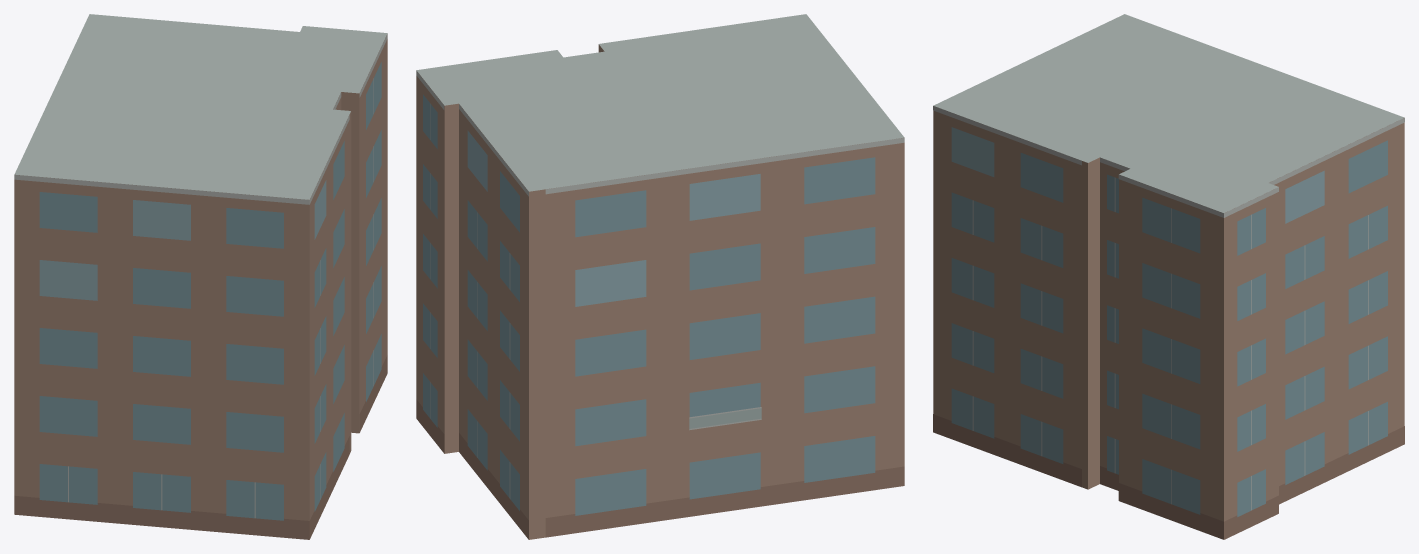
The model's file is survey-upis-33020995.glb.
3 renders of one model, left to right at view 1: azimuth 30°, elevation 25°; view 2: azimuth 150°, elevation 25°; view 3: azimuth 270°, elevation 25°, orthographic. The views are drawn at different scales.
Visible parts, largest first — view 1: survey-upis-33020995.tmp; view 2: survey-upis-33020995.tmp; view 3: survey-upis-33020995.tmp.
Part boxes in pixels (x1,y1,x2,y2): survey-upis-33020995.tmp: (14,14,387,539); survey-upis-33020995.tmp: (416,14,904,539); survey-upis-33020995.tmp: (933,14,1404,539).
Size of the model in its own units: 21.92 by 16.75 by 21.93.
